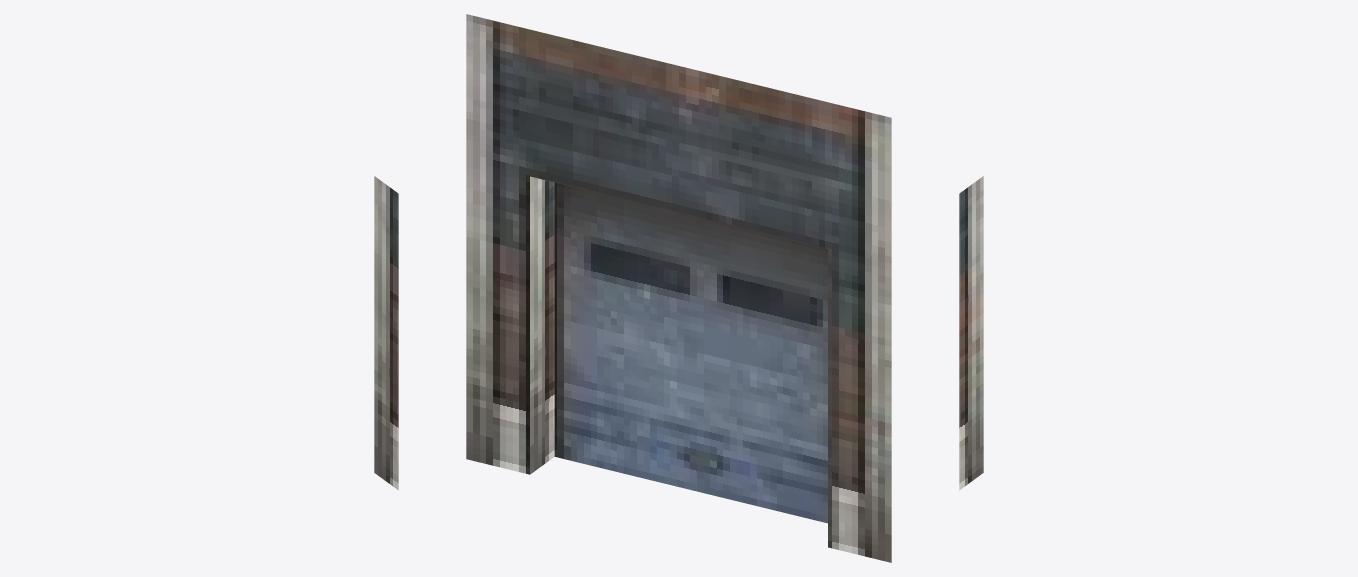
The model's file is kenney-retro-urban-wall-a-flat-garage.glb.
The picture shows the model from 3 angles, left to right: view 1: azimuth 30°, elevation 25°; view 2: azimuth 150°, elevation 25°; view 3: azimuth 330°, elevation 25°; orthographic projection.
Parts seen in each view (by area): view 1: wall-a-flat-garage; view 2: wall-a-flat-garage; view 3: wall-a-flat-garage.
Part boxes in pixels (x1=…): wall-a-flat-garage: x1=374, y1=176, x2=398, y2=490; wall-a-flat-garage: x1=466, y1=14, x2=891, y2=562; wall-a-flat-garage: x1=959, y1=176, x2=983, y2=490.
Bounding box in the file's own units: 1 × 1 × 0.1.
3 materials, 3 textured.
